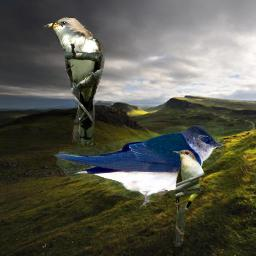Cuckoo: (43, 17, 105, 145), (172, 149, 205, 247)
Swallow: (54, 125, 224, 209)
